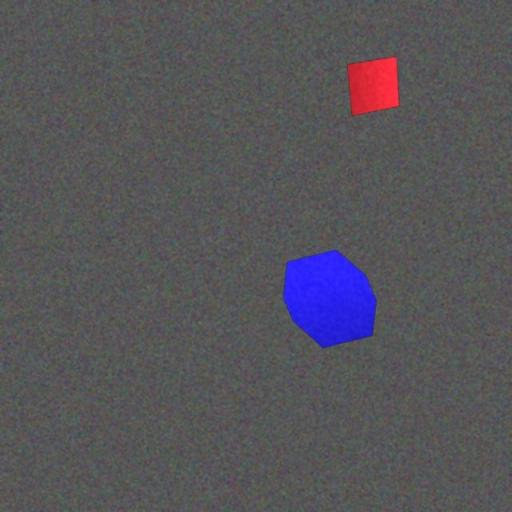RED_SQUARE: (346, 56, 400, 117)
